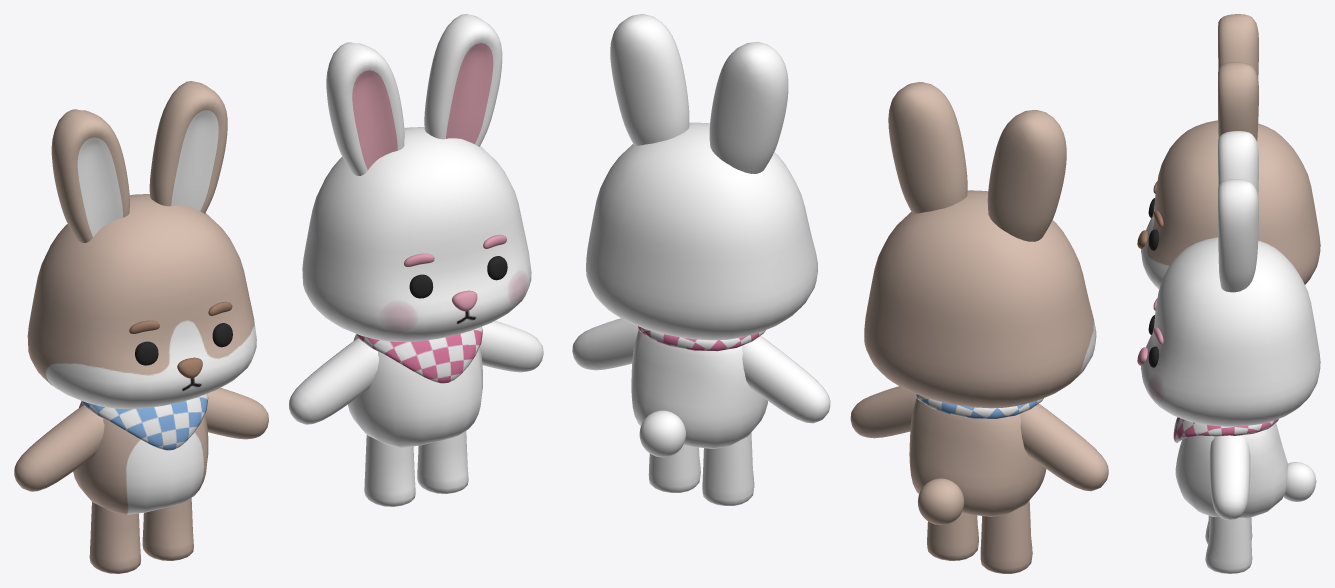
The model's file is cute_bunny.glb.
3 renders of one model, left to right at view 1: azimuth 30°, elevation 25°; view 2: azimuth 150°, elevation 25°; view 3: azimuth 270°, elevation 25°, orthographic. The views are drawn at different scales.
Parts seen in each view (by area): view 1: bunny2_head, bunny1_head, bunny2_ears, bunny1_ears, bunny1_body, bunny2_body, bunny1_arms, bunny2_arms, bunny1_legs, bunny2_legs, bunny1_scraf, bunny2_scraf (+2 smaller); view 2: bunny1_head, bunny2_head, bunny1_ears, bunny2_ears, bunny1_body, bunny2_body, bunny2_arms, bunny1_arms, bunny1_legs, bunny2_legs, bunny2_tail, bunny1_tail (+2 smaller); view 3: bunny2_head, bunny1_head, bunny2_ears, bunny2_body, bunny1_ears, bunny2_arms, bunny2_legs, bunny2_scraf, bunny2_tail, bunny1_eyes, bunny2_eyes.
Boxes of the visible parts, x1,y1,x2,y2 form: bunny2_head: (302,127,531,341); bunny1_head: (27,194,256,409); bunny2_ears: (326,14,502,175); bunny1_ears: (51,81,227,242); bunny1_body: (73,401,208,514); bunny2_body: (348,334,482,447); bunny1_arms: (14,388,268,491); bunny2_arms: (289,321,543,424); bunny1_legs: (89,498,193,573); bunny2_legs: (364,431,468,506); bunny1_scraf: (81,394,208,450); bunny2_scraf: (356,326,482,383); bunny1_head: (864,190,1096,408); bunny2_head: (586,122,817,340); bunny1_ears: (888,82,1066,241); bunny2_ears: (610,14,788,173); bunny1_body: (909,398,1046,516); bunny2_body: (631,330,767,448); bunny2_arms: (572,318,830,423); bunny1_arms: (850,386,1108,491); bunny1_legs: (927,500,1032,573); bunny2_legs: (648,433,754,505); bunny2_tail: (639,410,685,457); bunny1_tail: (918,478,964,525); bunny2_head: (1141,237,1320,426); bunny1_head: (1141,120,1320,289); bunny2_ears: (1218,131,1258,292); bunny2_body: (1175,423,1288,518); bunny1_ears: (1218,14,1258,140); bunny2_arms: (1209,435,1250,520); bunny2_legs: (1205,516,1252,573); bunny2_scraf: (1173,417,1278,442); bunny2_tail: (1283,462,1316,501); bunny1_eyes: (1148,198,1159,250); bunny2_eyes: (1148,315,1159,367).
Size of the model in its own units: 9.55 by 7.96 by 3.31.
11 materials, 4 textured.
